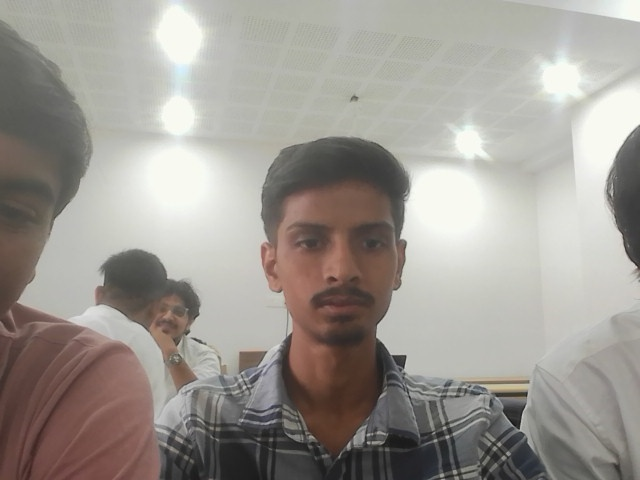light_off: (629, 6, 640, 25)
light_on: (151, 87, 203, 133), (533, 56, 574, 98), (447, 120, 486, 153)
person: (0, 25, 161, 479), (518, 111, 639, 478)
